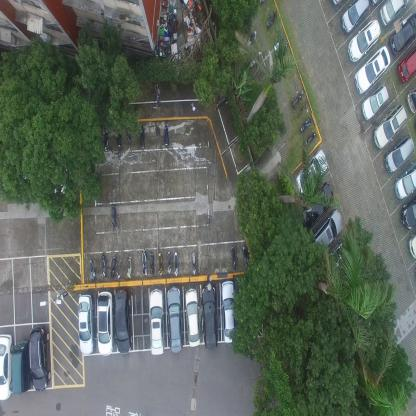car: (353, 44, 391, 96), (298, 182, 332, 233), (292, 148, 328, 196), (346, 17, 381, 64), (309, 208, 342, 257), (372, 103, 407, 149), (322, 233, 354, 282), (30, 324, 50, 392), (113, 288, 132, 354), (383, 135, 415, 174), (388, 12, 416, 56), (97, 290, 114, 357), (360, 82, 389, 121), (200, 284, 217, 350), (148, 286, 164, 356), (340, 0, 370, 36), (166, 286, 182, 353), (77, 293, 94, 355), (12, 336, 30, 394), (219, 279, 234, 345), (184, 287, 200, 347), (378, 0, 410, 29), (393, 161, 416, 201), (0, 332, 13, 401), (396, 44, 416, 84), (400, 194, 416, 230), (406, 82, 416, 116), (406, 230, 416, 260)
